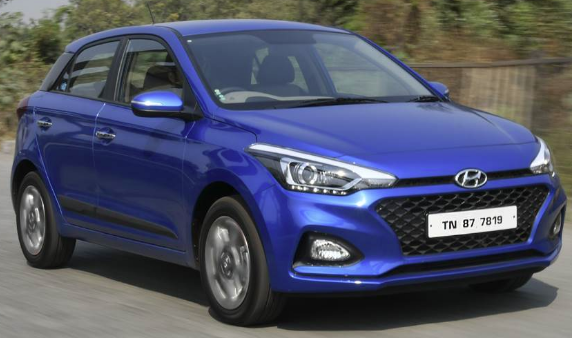car: (9, 19, 569, 329)
